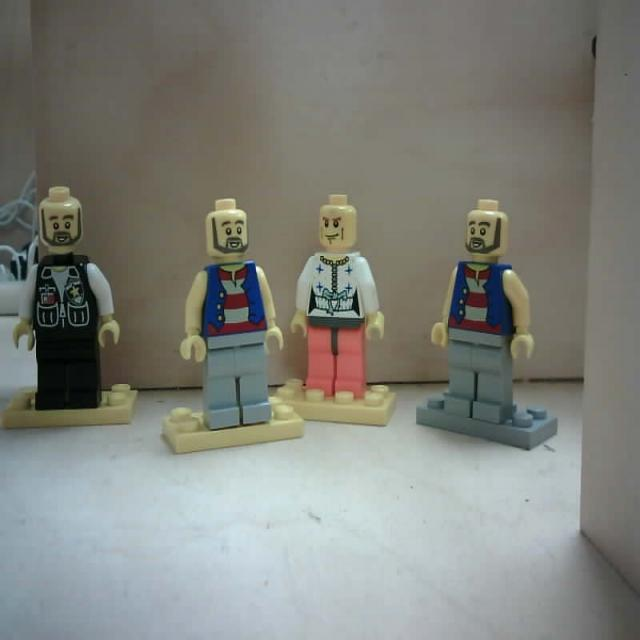Lego-People: (173, 194, 287, 436), (11, 182, 120, 414), (432, 195, 536, 433), (291, 192, 392, 406)
